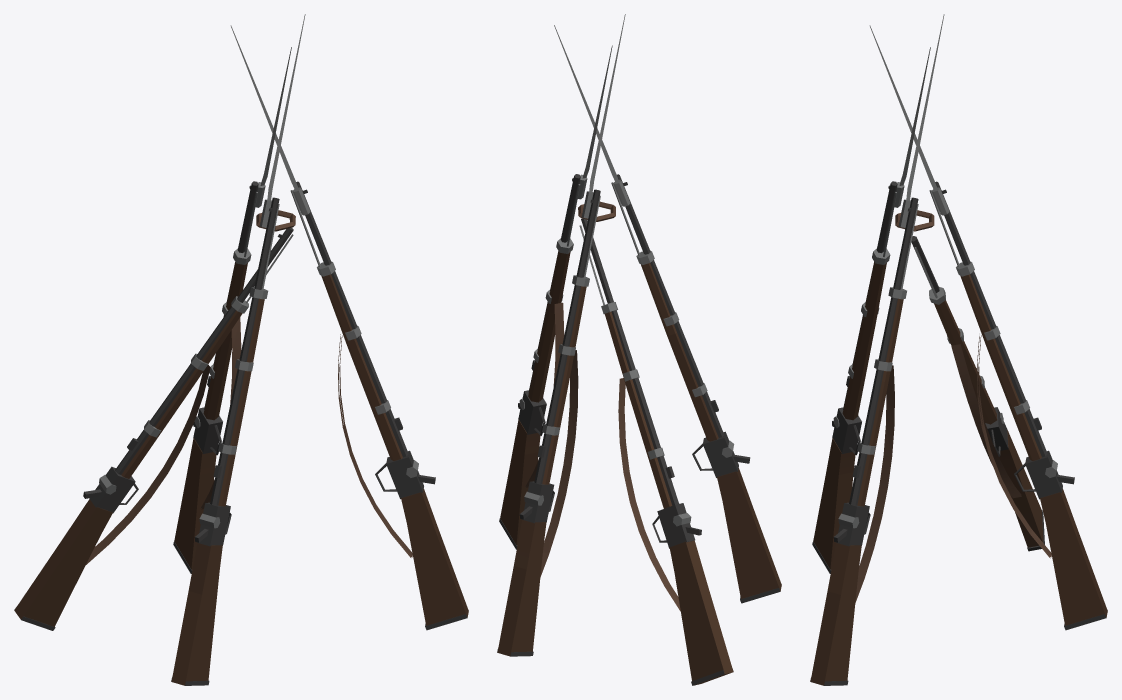
File: pabellon_fusiles.glb
The picture shows the model from 3 angles, left to right: view 1: azimuth 30°, elevation 25°; view 2: azimuth 150°, elevation 25°; view 3: azimuth 270°, elevation 25°; orthographic projection. The views are drawn at different scales.
Parts seen in each view (by area): view 1: PabellonFusiles; view 2: PabellonFusiles; view 3: PabellonFusiles.
Part boxes in pixels (<box>): PabellonFusiles: <box>14,14,468,685</box>; PabellonFusiles: <box>497,14,781,685</box>; PabellonFusiles: <box>810,14,1107,685</box>.
Size of what is drawn, in the model's own units: 1.02 by 1.7 by 0.7621.
